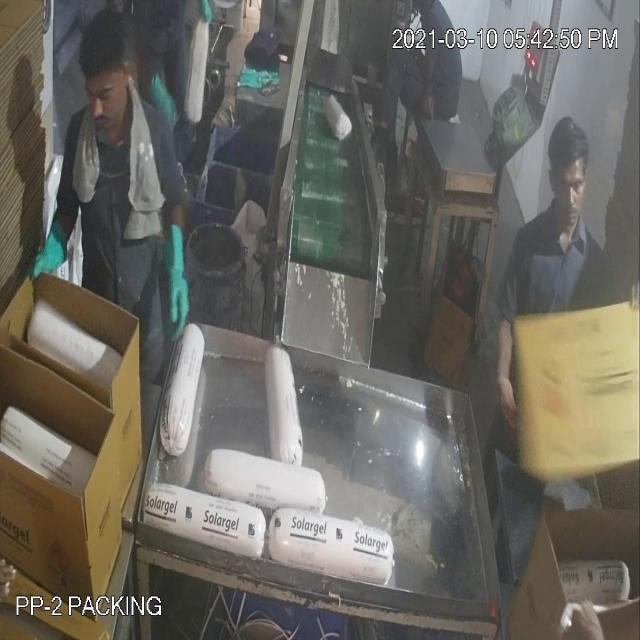Gloves: (40, 159, 507, 372)
